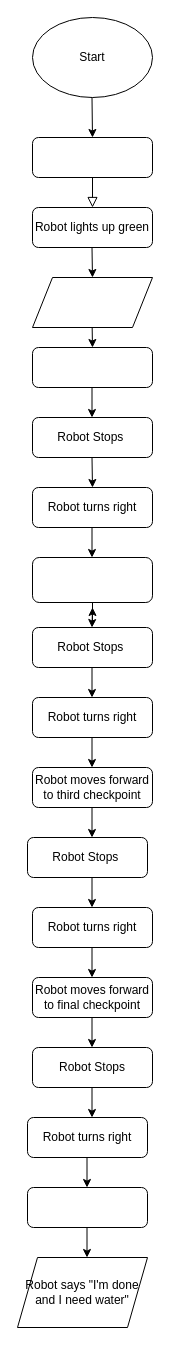
The diagram is 170 pixels wide and 1345 high, and some of its shapes have lost their labels. Each missing label, with the centre of its shape:
Robot changes color to red: the point at 87,1207
Robot moves forward to first checkpoint: the point at 92,367
Robot moves forward to second checkpoint: the point at 92,579
Robot says "Ready Set Go": the point at 92,302
Robot Starts on the first tile: the point at 92,157
